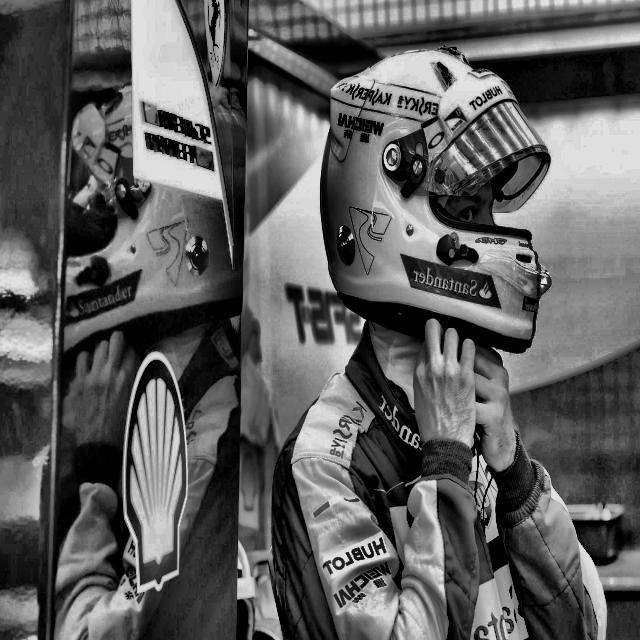Helmet: (317, 45, 554, 348)
